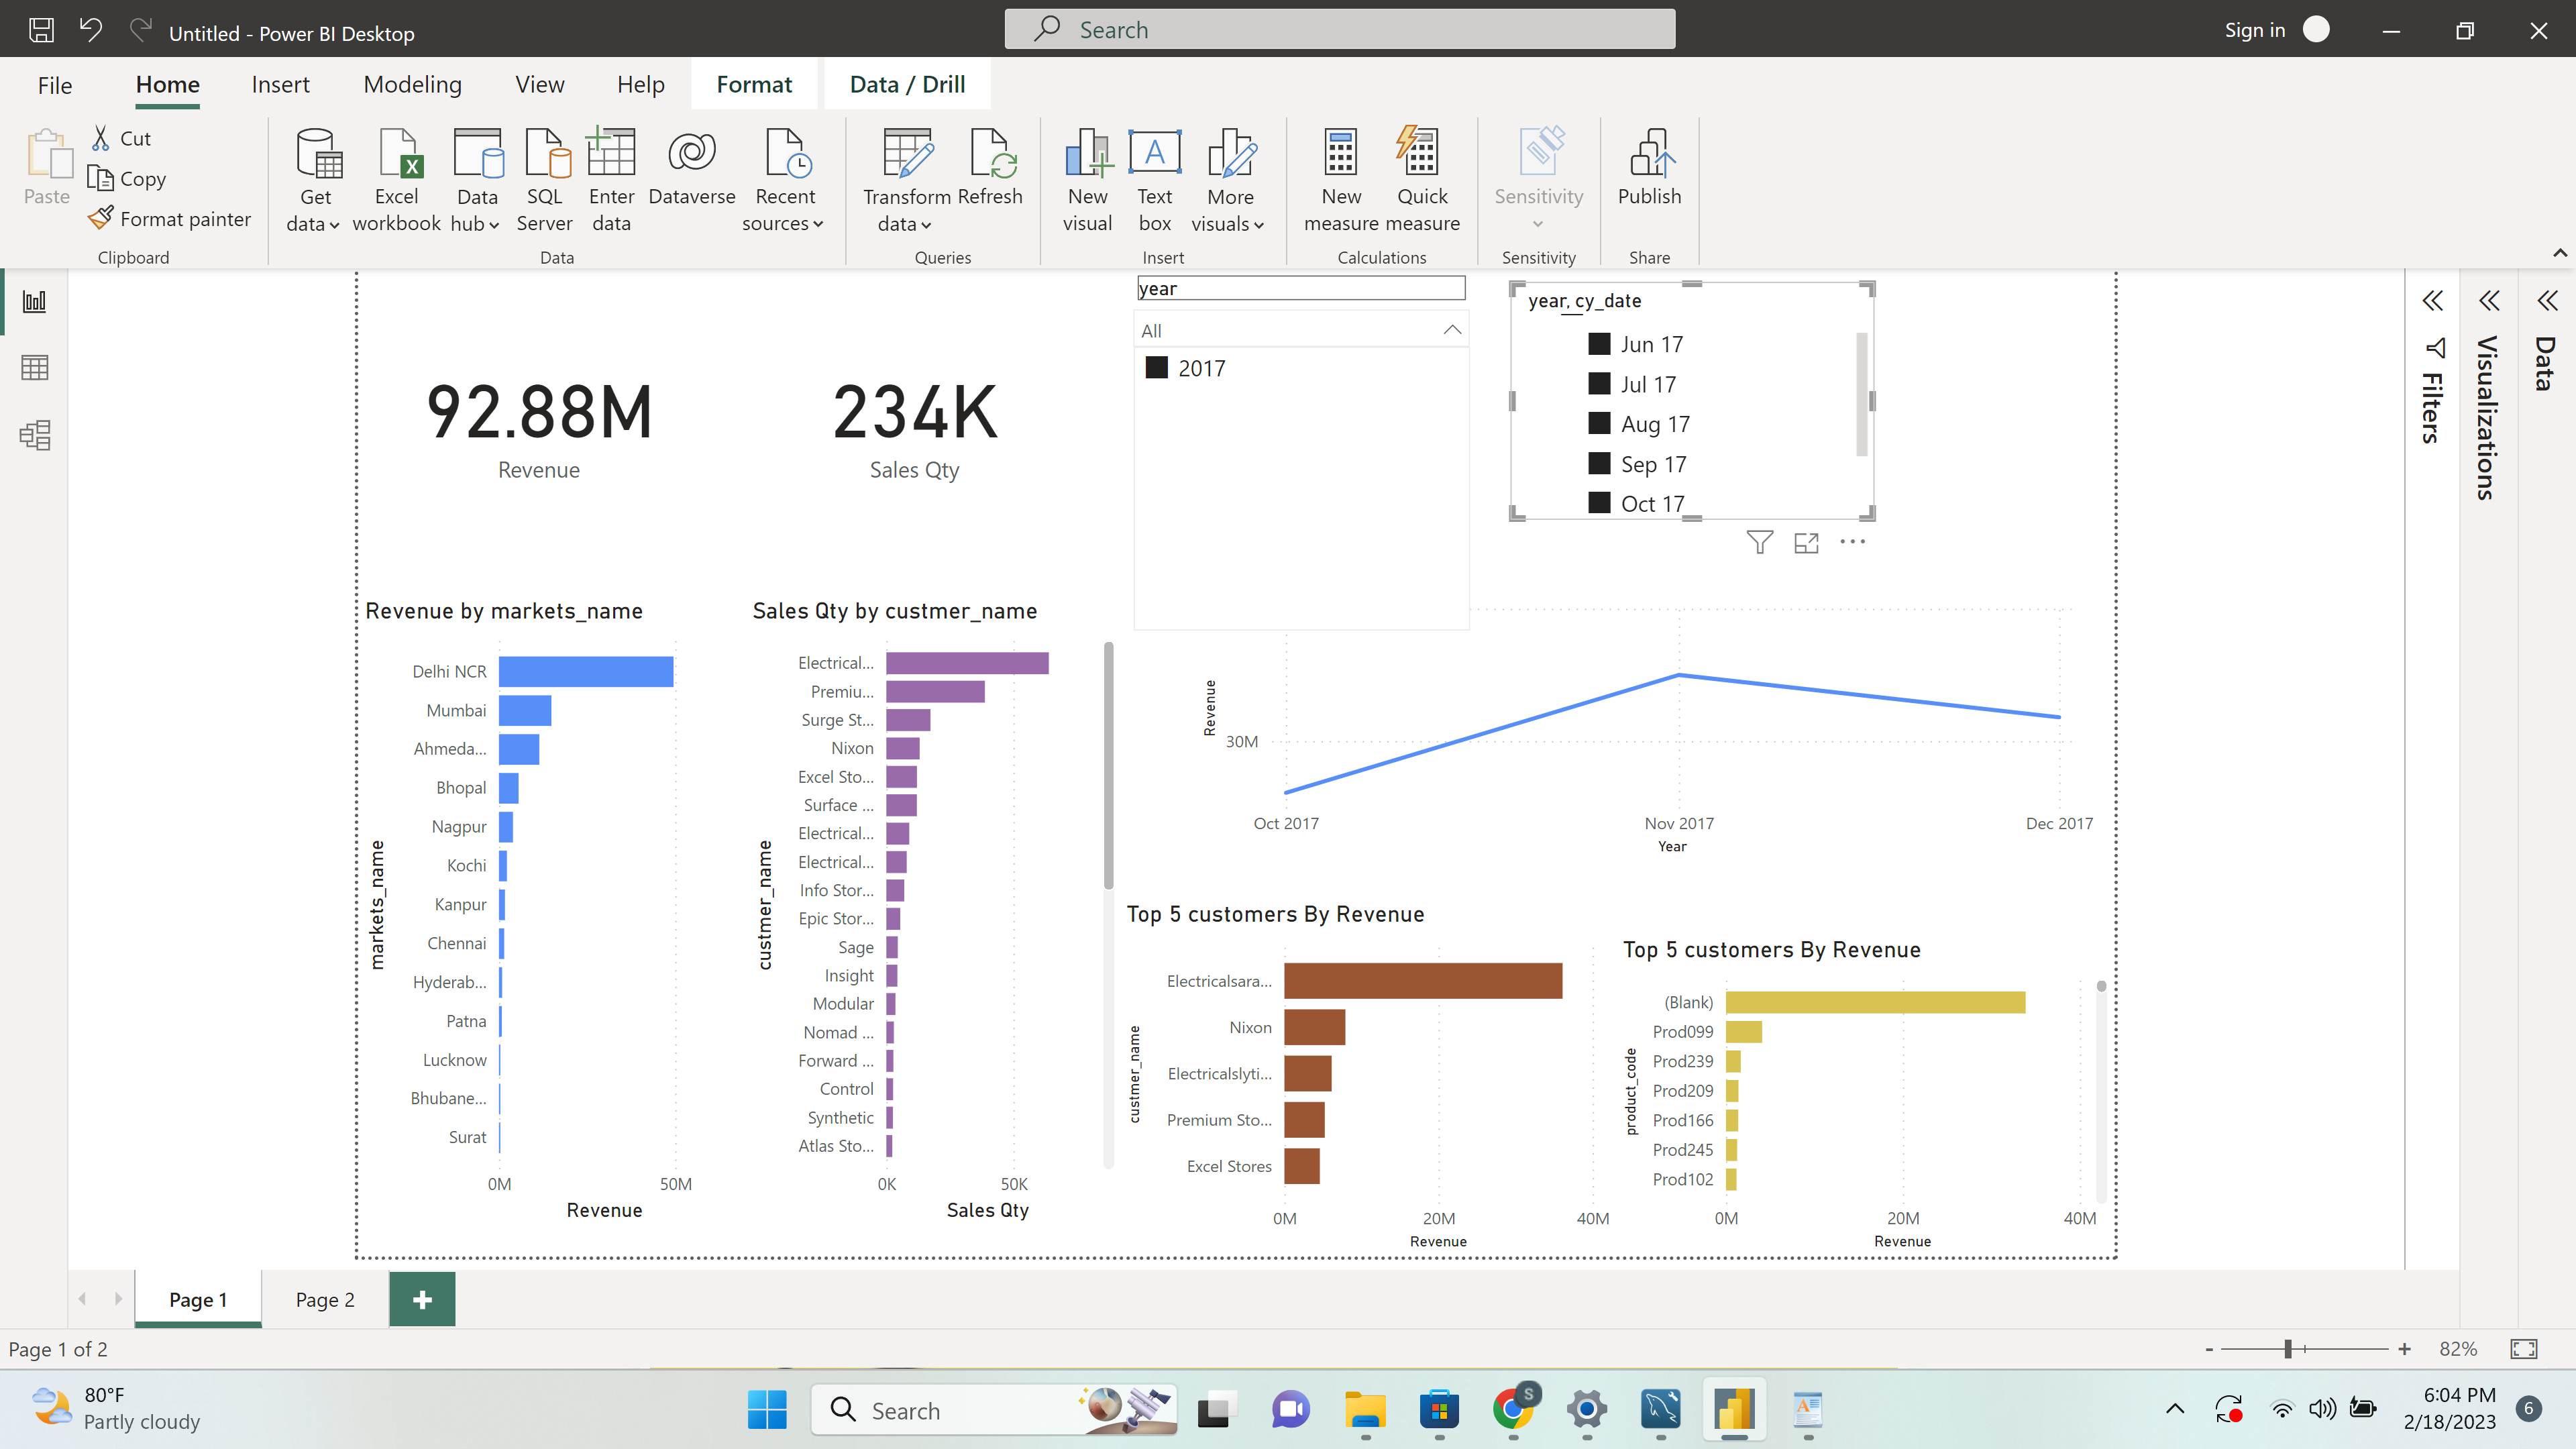

This screenshot's page, from the dashboard's own definition file:
{"tool":"powerbi","page":{"name":"Page 1","canvas":[1280,720],"ordinal":0},"visuals":[{"type":"card","fields":{"Values":["BaseMeasures.Revenue"]},"box":[0,0,263.5,215.4],"z":0},{"type":"card","fields":{"Values":["BaseMeasures.Sales Qty"]},"box":[273.5,0,263.5,215.4],"z":1000},{"type":"barChart","fields":{"Y":["BaseMeasures.Revenue"],"Category":["sales markets.markets_name","sales customers (2).custmer_name"]},"box":[0,239.8,273.7,459.3],"z":2000},{"type":"barChart","fields":{"Y":["BaseMeasures.Sales Qty"],"Category":["sales customers (2).custmer_name"]},"box":[281.8,239.8,273.7,459.3],"z":3000},{"type":"slicer","fields":{"Values":["sales date.year"]},"box":[546,0,265.5,173.4],"z":4000},{"type":"textbox","box":[828.5,0,265,270],"z":5000},{"type":"slicer","fields":{"Values":["sales date.year","sales date.cy_date"]},"box":[840,9.5,265.5,173.4],"z":6000},{"type":"slicer","fields":{"Values":["sales date.year"]},"box":[555,0,265.3,173.6],"z":7000},{"type":"barChart","title":"Top 5 customers By Revenue","fields":{"Y":["BaseMeasures.Revenue"],"Category":["sales customers (2).custmer_name"]},"box":[555,460.8,361.8,259.2],"z":8000},{"type":"barChart","title":"Top 5 customers By Revenue","fields":{"Y":["BaseMeasures.Revenue"],"Category":["sales products.product_code"]},"box":[916.8,486.5,363.1,233.5],"z":9000},{"type":"lineChart","title":"Revenue_Trend","fields":{"Category":["sales date.cy_date.Variation.Date Hierarchy.Year","sales date.cy_date.Variation.Date Hierarchy.Quarter","sales date.cy_date.Variation.Date Hierarchy.Month","sales date.cy_date.Variation.Date Hierarchy.Day"],"Y":["BaseMeasures.Revenue"]},"box":[609.7,215.4,659.8,216.8],"z":10000}]}

Visuals, with their boxes on the page's 1280x720 design canvas (x1, y1, x2, y2). These are canvas units, not pixel positions in the 2576x1449 screenshot, which may show the page scaled, cropped or inside an application window:
card - BaseMeasures.Revenue: (0, 0, 264, 215)
card - BaseMeasures.Sales Qty: (274, 0, 537, 215)
barChart - BaseMeasures.Revenue x sales markets.markets_name: (0, 240, 274, 699)
barChart - BaseMeasures.Sales Qty x sales customers (2).custmer_name: (282, 240, 556, 699)
slicer - sales date.year: (546, 0, 812, 173)
textbox: (828, 0, 1094, 270)
slicer - sales date.year x sales date.cy_date: (840, 10, 1106, 183)
slicer - sales date.year: (555, 0, 820, 174)
"Top 5 customers By Revenue" barChart: (555, 461, 917, 720)
"Top 5 customers By Revenue" barChart: (917, 486, 1280, 720)
"Revenue_Trend" lineChart: (610, 215, 1270, 432)
